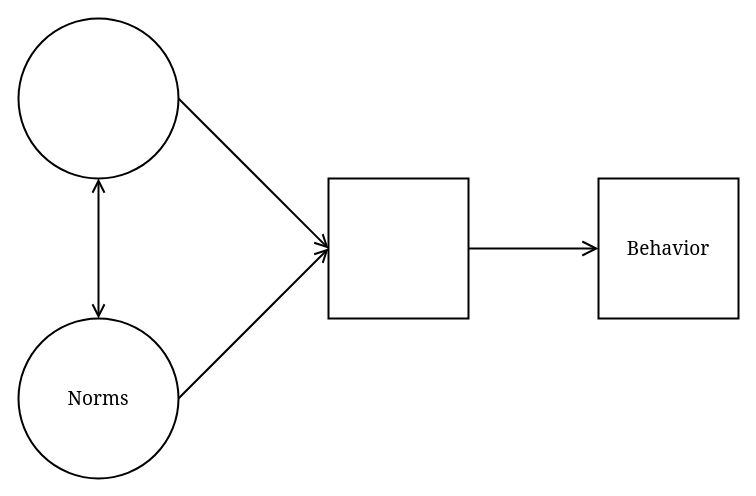
Image size: 756x496. Some labels were removed from this diagram. Here are the shapes that lost their labels. From the top down, the centre of each, then its label:
At (x=98, y=98): "Attitudes".
At (x=398, y=248): "Intention".
